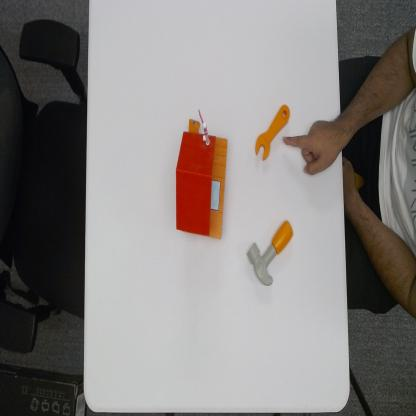Hammer: (247, 219, 296, 288)
Hand: (283, 121, 336, 176)
House: (174, 107, 228, 240)
Screwdriver: (253, 102, 292, 162)
